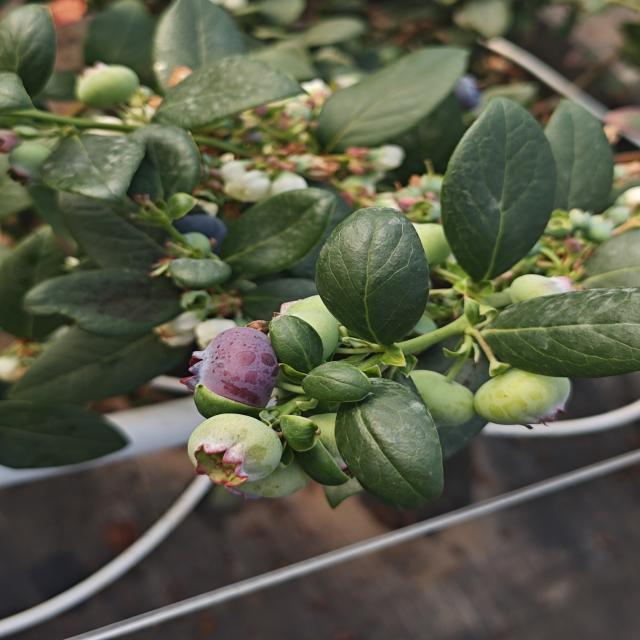ripe: (186, 324, 282, 410), (138, 205, 235, 254), (434, 66, 498, 110)
